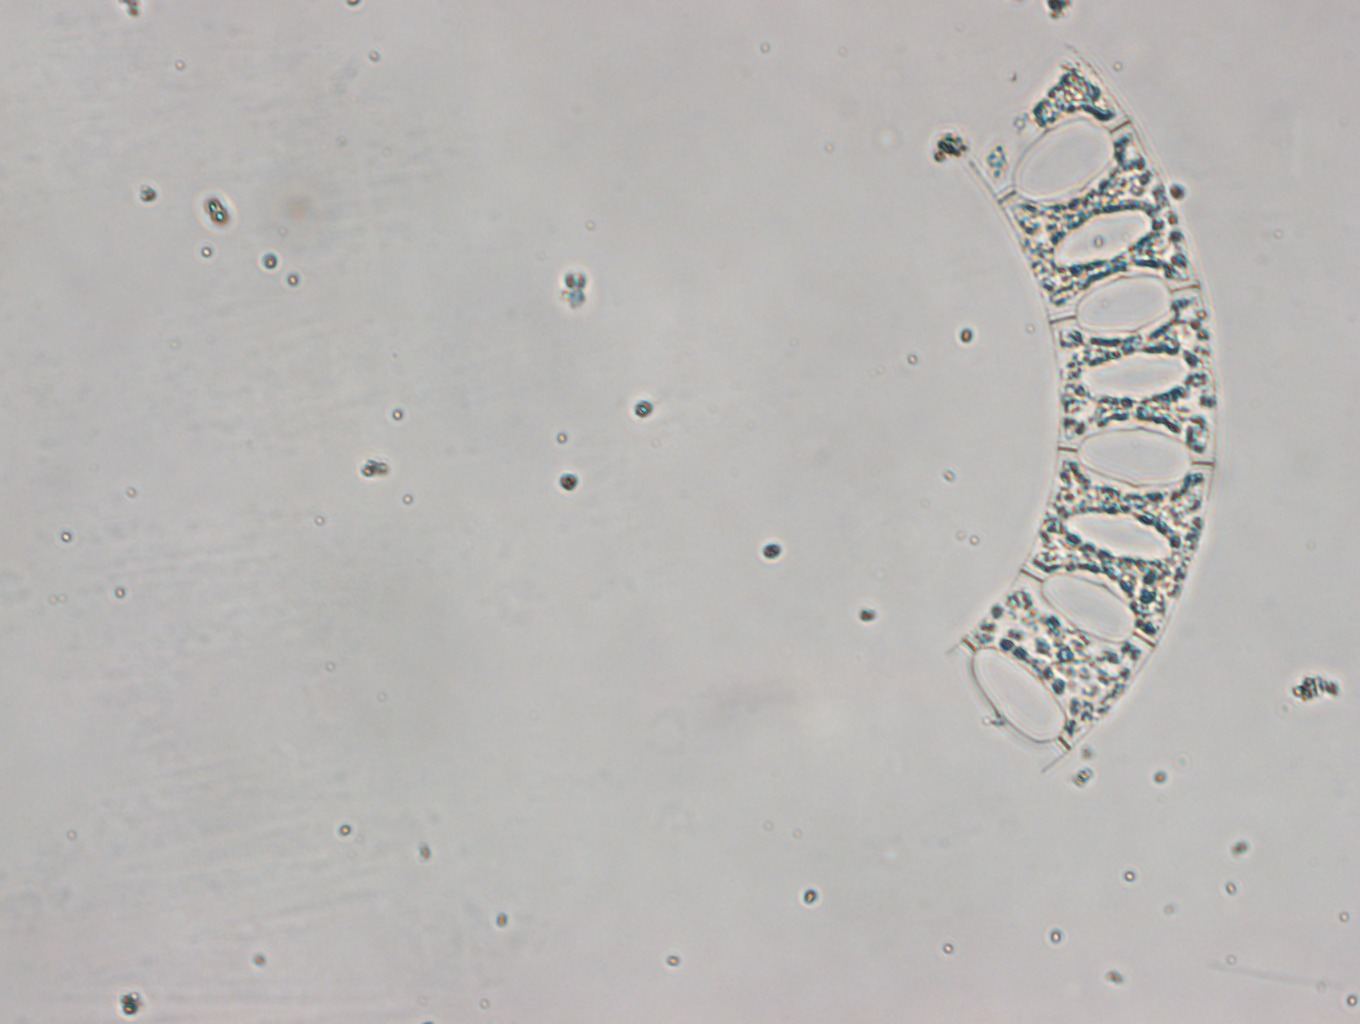eucampia: (942, 42, 1220, 773)
